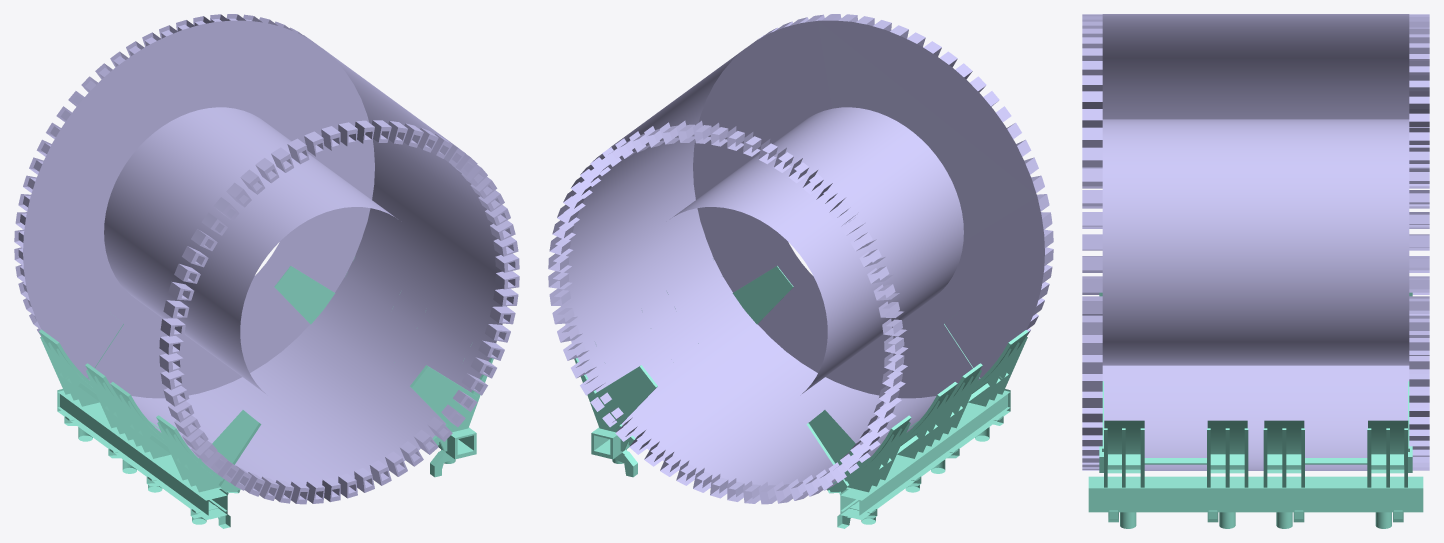
File: calorimeter-tile-barrel.glb
The picture shows the model from 3 angles, left to right: view 1: azimuth 30°, elevation 25°; view 2: azimuth 150°, elevation 25°; view 3: azimuth 270°, elevation 25°; orthographic projection. The views are drawn at different scales.
Visible parts, largest first — view 1: Mesh_0.003, Mesh_1.002; view 2: Mesh_0.003, Mesh_1.002; view 3: Mesh_0.003, Mesh_1.002.
Part boxes in pixels (bbox=[...]): Mesh_0.003: bbox=[14, 14, 519, 504]; Mesh_1.002: bbox=[39, 258, 493, 528]; Mesh_0.003: bbox=[548, 14, 1053, 504]; Mesh_1.002: bbox=[574, 266, 1028, 528]; Mesh_0.003: bbox=[1082, 14, 1429, 470]; Mesh_1.002: bbox=[1088, 292, 1423, 528].
Bounding box in the file's own units: 8.48 × 8.73 × 6.43.
